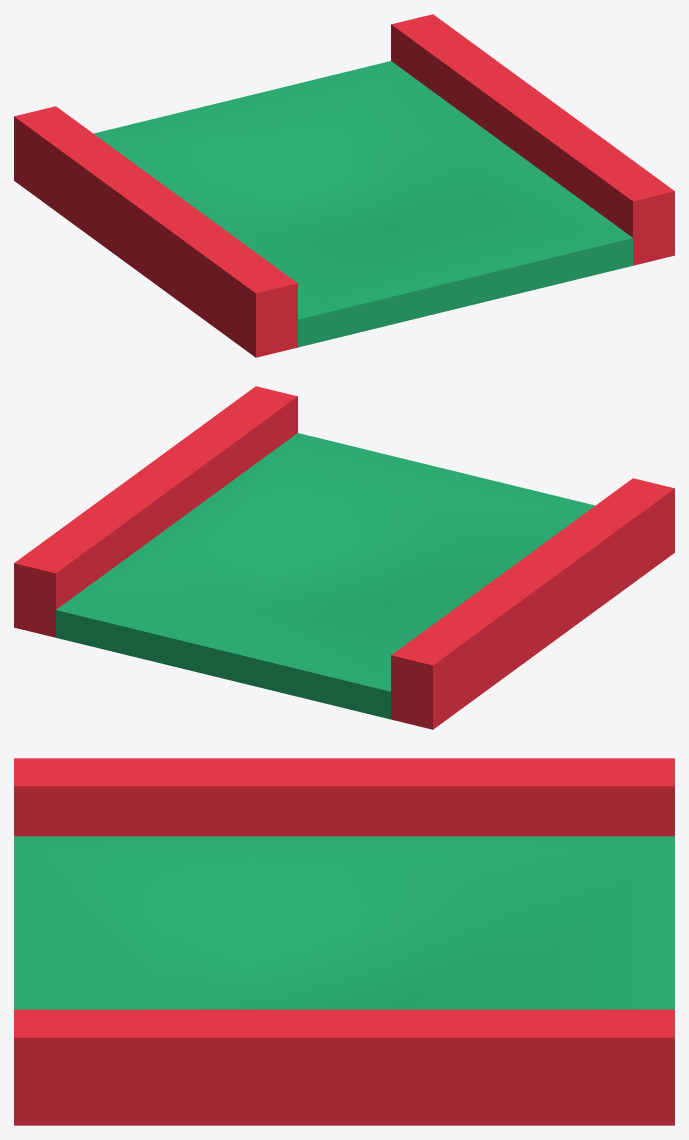
File: bumpDownWalls.fbx
3 renders of one model, top to bottom at view 1: azimuth 30°, elevation 25°; view 2: azimuth 150°, elevation 25°; view 3: azimuth 270°, elevation 25°, orthographic. The views are drawn at different scales.
Parts seen in each view (by area): view 1: bumpDownWalls; view 2: bumpDownWalls; view 3: bumpDownWalls.
Part boxes in pixels (x1,y1,x2,y2): bumpDownWalls: [14, 14, 674, 357]; bumpDownWalls: [14, 386, 674, 729]; bumpDownWalls: [14, 758, 674, 1125].
Size of the model in its own units: 10 by 1.47 by 10.
